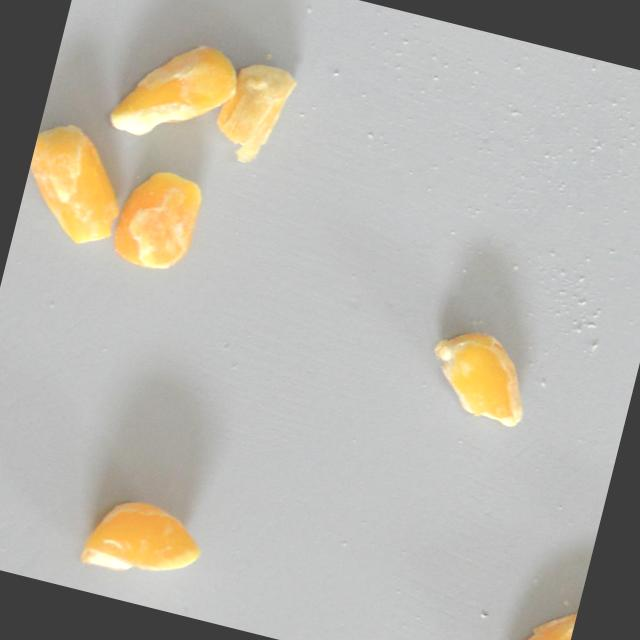pelicula: (105, 23, 245, 157), (13, 115, 139, 252), (78, 489, 209, 588), (420, 321, 540, 429), (109, 162, 207, 275), (211, 51, 300, 156), (507, 577, 582, 640)
